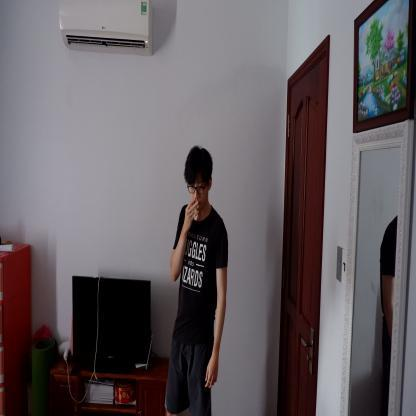cigarette: (194, 206, 197, 219)
person: (163, 143, 231, 415)
